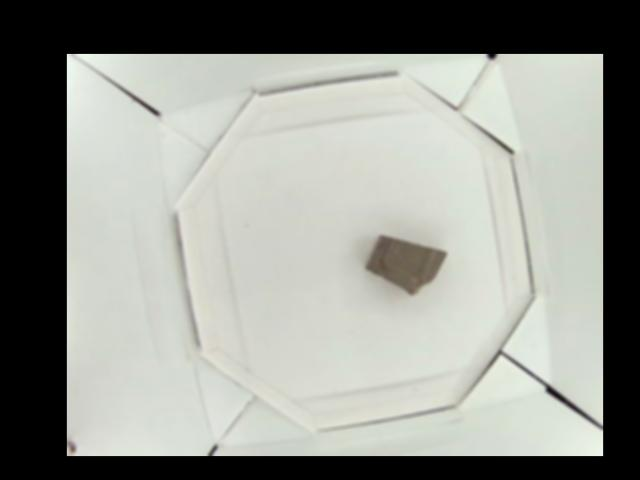China: (364, 234, 448, 298)
